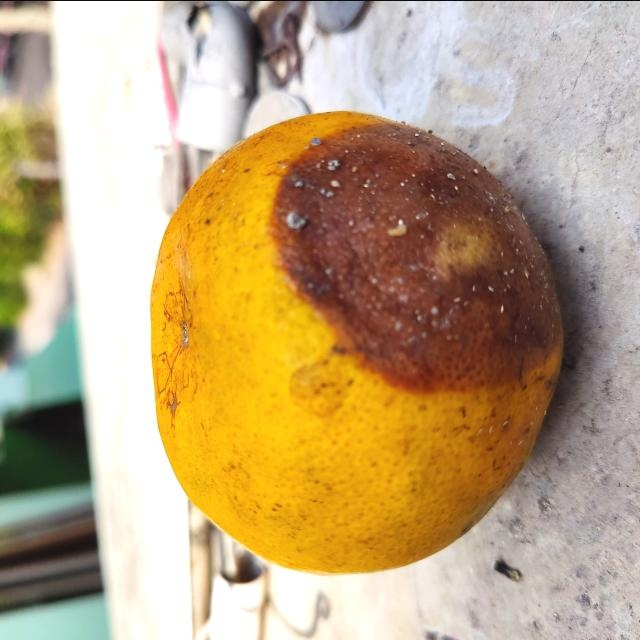agrume: (147, 109, 573, 575)
